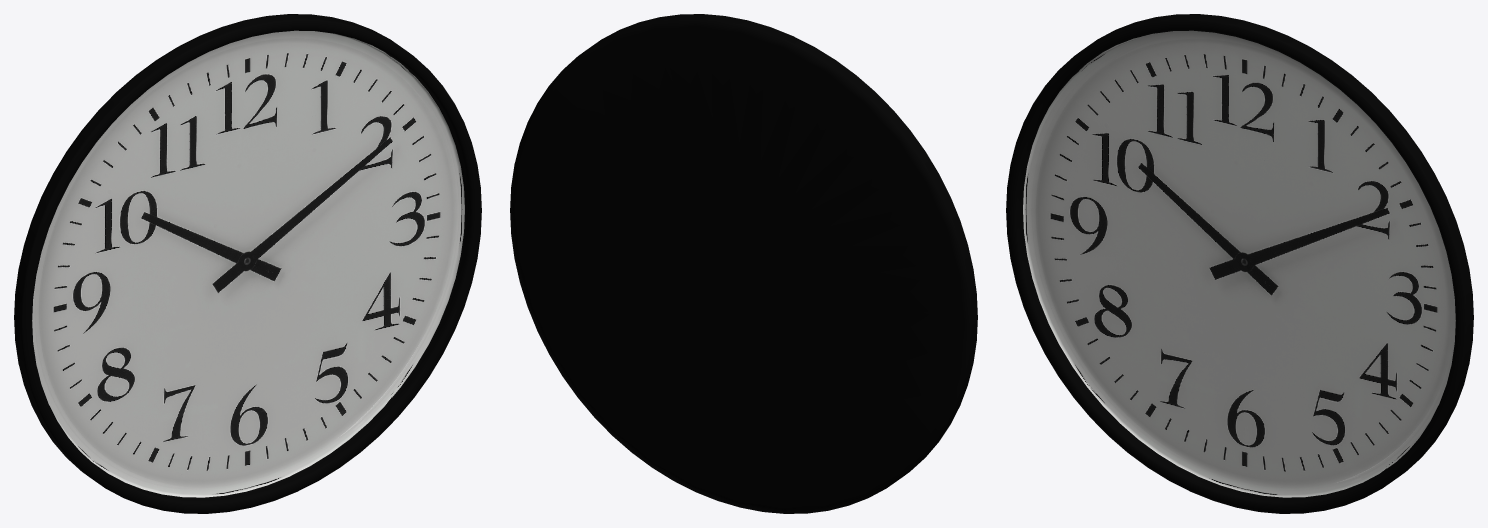
Rendered from WallClock.fbx.
The picture shows the model from 3 angles, left to right: view 1: azimuth 30°, elevation 25°; view 2: azimuth 150°, elevation 25°; view 3: azimuth 330°, elevation 25°; orthographic projection.
Parts seen in each view (by area): view 1: WallClock; view 2: WallClock; view 3: WallClock.
Part boxes in pixels (left/top/right/bottom): WallClock: left=14, top=14, right=481, bottom=513; WallClock: left=510, top=14, right=977, bottom=513; WallClock: left=1006, top=14, right=1473, bottom=513.
Size of the model in its own units: 58.52 by 58.52 by 2.11.
Materials: 2 (1 with a texture image).
